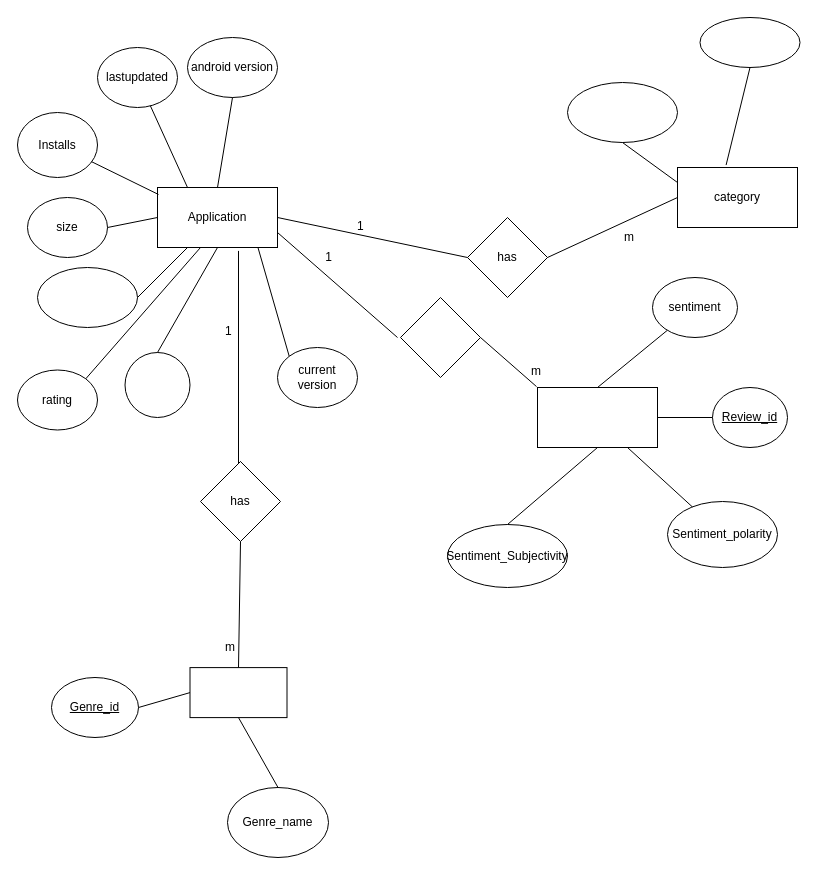
Some shapes in this 818 by 875 pixel diagram are drawn without their labels. The centre of each missing label's shape, as x and y in pixels:
"app_id" belongs at (87,297).
"appname" belongs at (157,385).
"category name" belongs at (749,42).
"category_id" belongs at (622,112).
"Genre" belongs at (238,692).
"Receives" belongs at (440,337).
"Review" belongs at (597,417).
